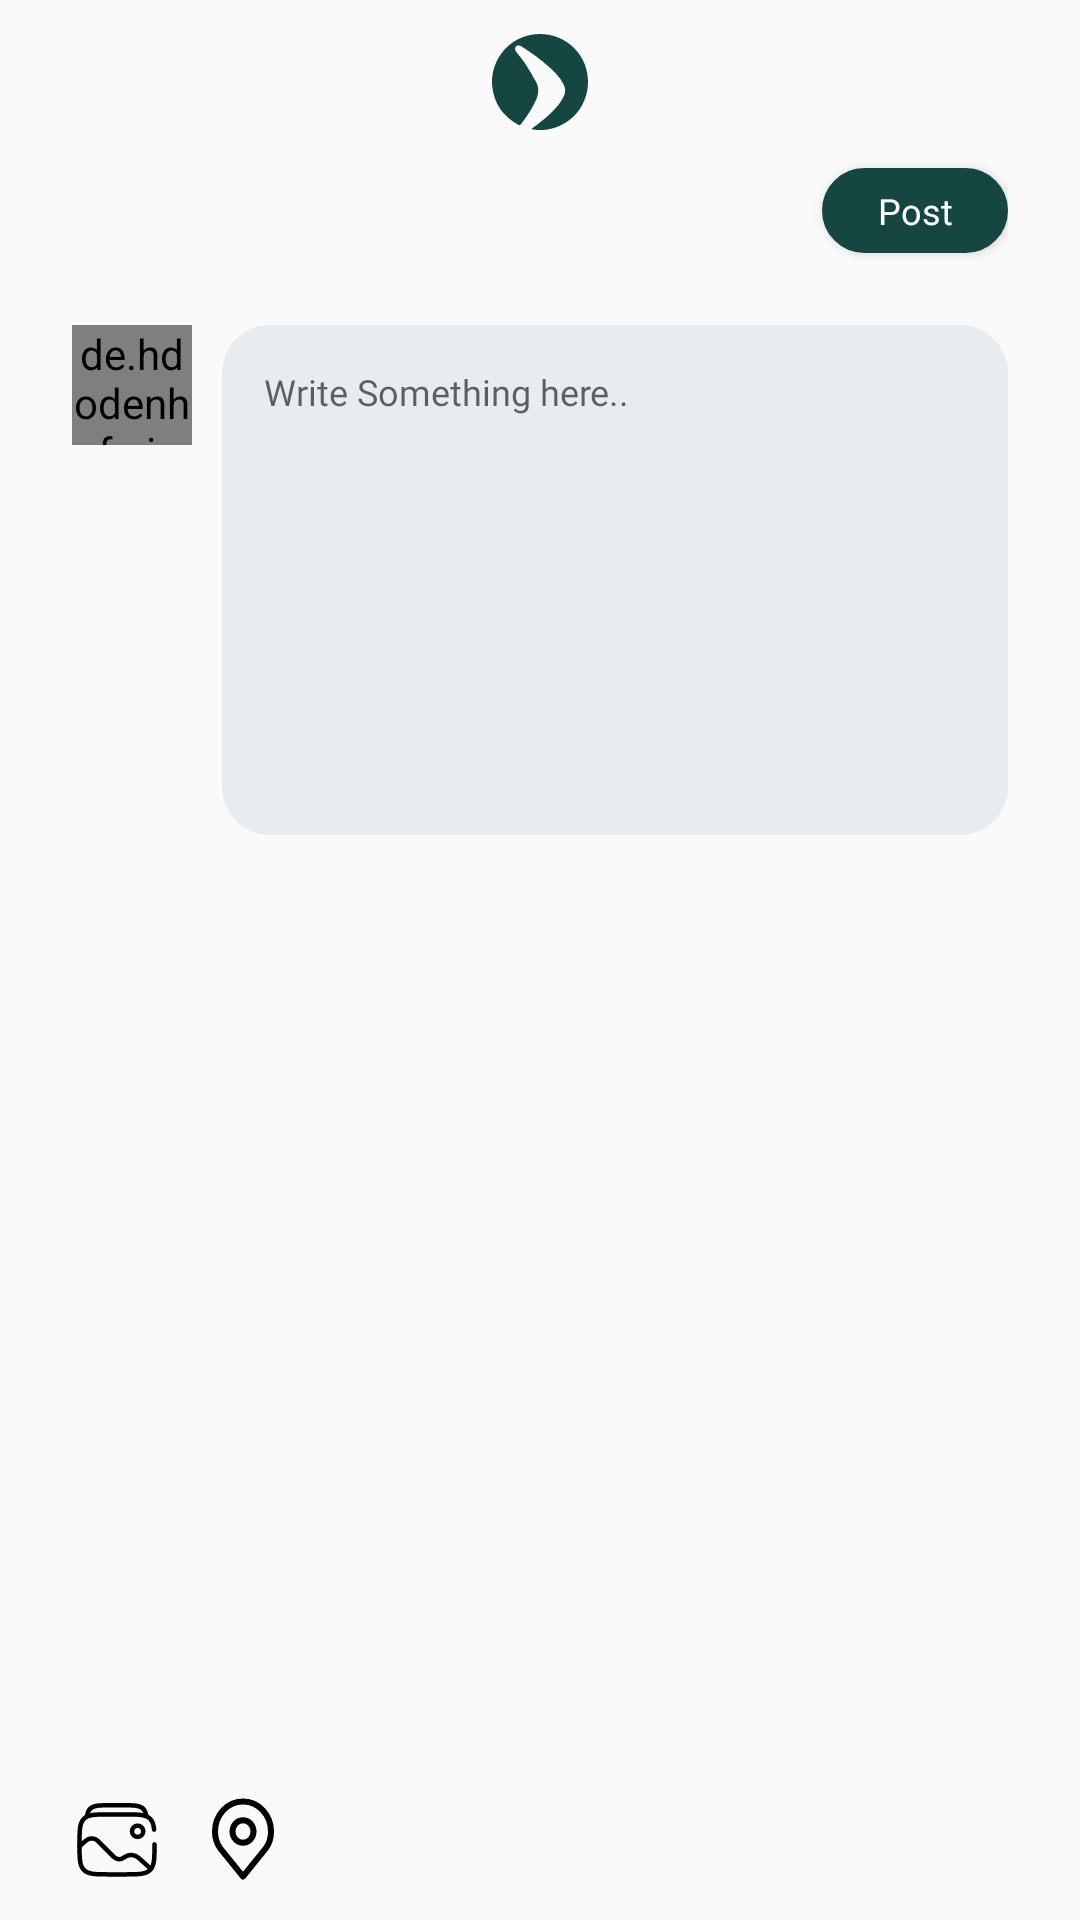

Where icons sit on this 1080 × 1920 app screen, as (x1, y1, x2, y2):
gallery: (77, 1803, 157, 1877)
location: (212, 1798, 274, 1880)
